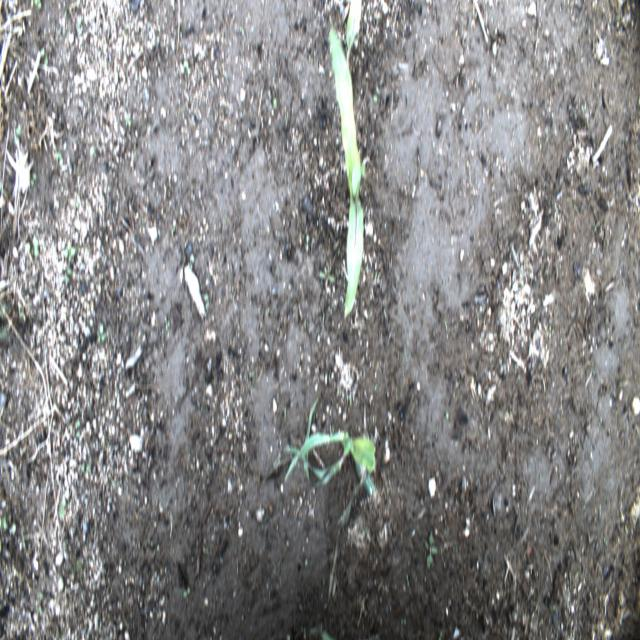crop: (326, 1, 365, 330), (280, 388, 380, 501)
weed: (61, 241, 78, 295), (424, 529, 440, 570), (56, 492, 71, 528), (0, 502, 14, 534), (29, 229, 41, 258), (175, 55, 192, 75), (51, 142, 63, 170)
